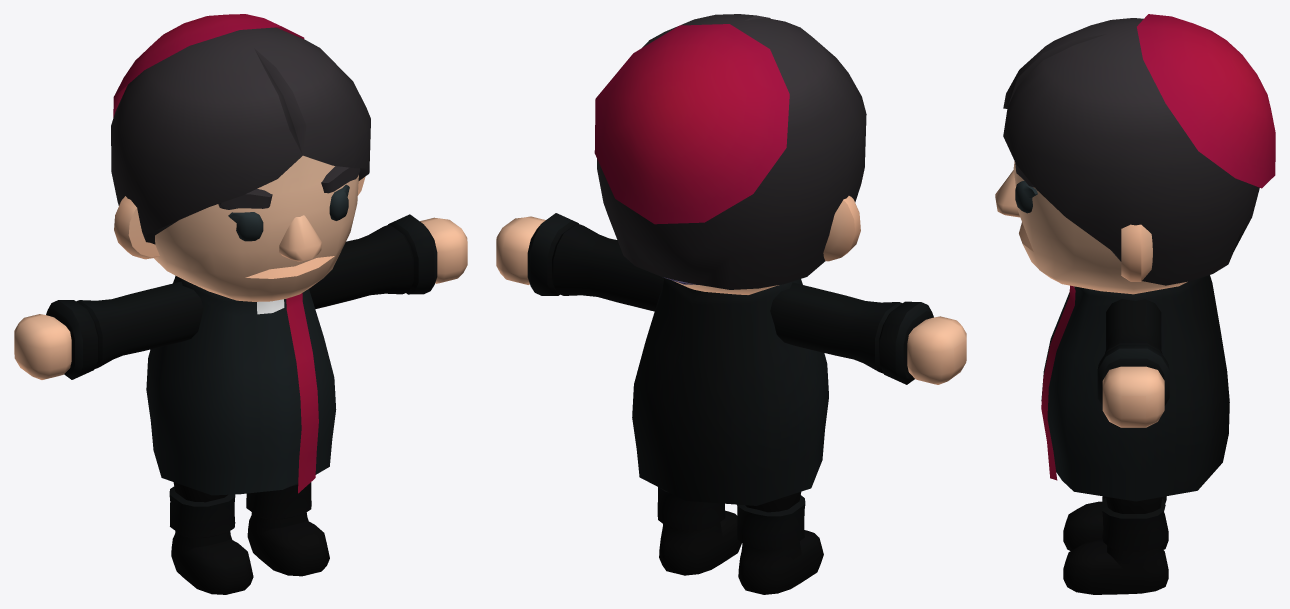
The model's file is Priest.glb.
3 renders of one model, left to right at view 1: azimuth 30°, elevation 25°; view 2: azimuth 150°, elevation 25°; view 3: azimuth 270°, elevation 25°, orthographic. The views are drawn at different scales.
Parts seen in each view (by area): view 1: Mage_Head.002, Cloak.003, Mage_ArmRight.002, Mage_ArmLeft.002, Mage_LegRight.002, Mage_LegLeft.002, Cloak.006, Sphere.004; view 2: Cloak.003, Mage_Head.002, Sphere.004, Mage_ArmRight.002, Mage_ArmLeft.002, Mage_LegRight.002, Mage_LegLeft.002; view 3: Mage_Head.002, Cloak.003, Sphere.004, Mage_LegLeft.002, Mage_ArmLeft.002, Mage_LegRight.002, Cloak.006.
Boxes of the visible parts, left/top/right/bottom form: Mage_Head.002: left=111, top=27, right=370, bottom=301; Cloak.003: left=146, top=275, right=336, bottom=495; Mage_ArmRight.002: left=14, top=281, right=203, bottom=379; Mage_ArmLeft.002: left=309, top=214, right=467, bottom=309; Mage_LegRight.002: left=169, top=482, right=253, bottom=594; Mage_LegLeft.002: left=246, top=482, right=329, bottom=576; Cloak.006: left=286, top=293, right=318, bottom=493; Sphere.004: left=113, top=14, right=304, bottom=117; Cloak.003: left=632, top=278, right=828, bottom=505; Mage_Head.002: left=597, top=14, right=866, bottom=294; Sphere.004: left=594, top=24, right=789, bottom=224; Mage_ArmRight.002: left=770, top=282, right=966, bottom=384; Mage_ArmLeft.002: left=496, top=213, right=664, bottom=311; Mage_LegRight.002: left=737, top=492, right=823, bottom=594; Mage_LegLeft.002: left=657, top=487, right=741, bottom=575; Mage_Head.002: left=995, top=18, right=1259, bottom=294; Cloak.003: left=1041, top=275, right=1229, bottom=501; Sphere.004: left=1137, top=14, right=1275, bottom=188; Mage_LegLeft.002: left=1063, top=497, right=1168, bottom=594; Mage_ArmLeft.002: left=1097, top=299, right=1169, bottom=427; Mage_LegRight.002: left=1063, top=496, right=1168, bottom=550; Cloak.006: left=1041, top=285, right=1075, bottom=480.
Bounding box in the file's own units: 1.94 × 2.23 × 1.05.
2 materials, 2 textured.
